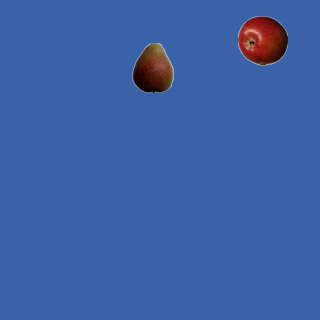Apple Braeburn: (237, 15, 287, 65)
Pear Forelle: (127, 42, 177, 92)
